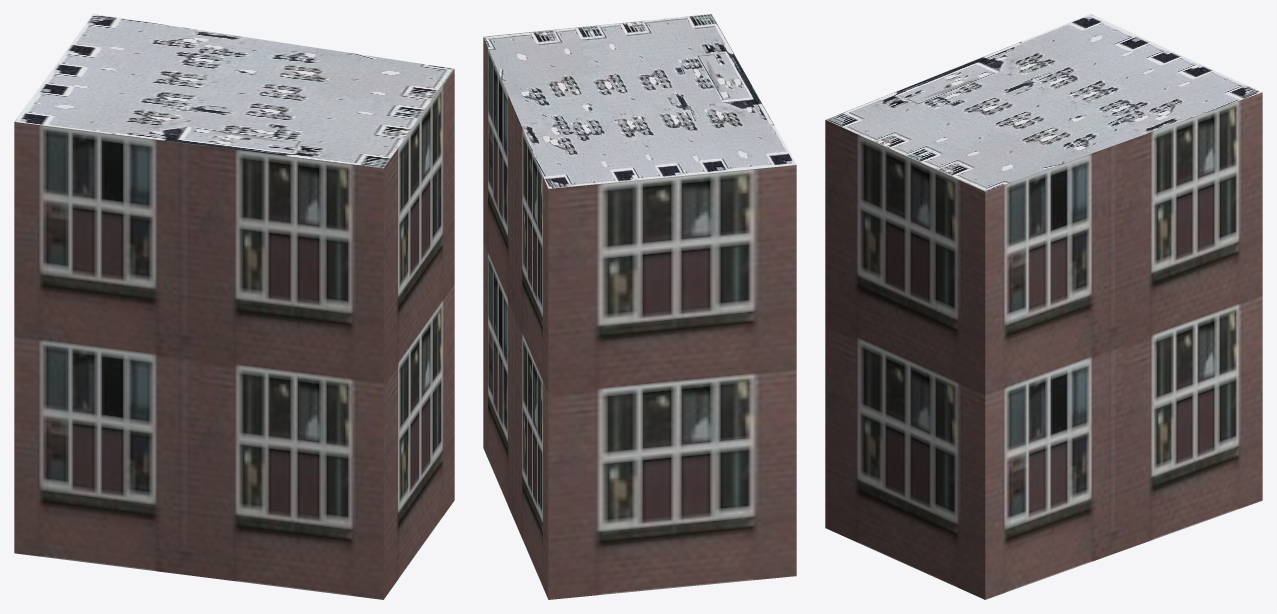
File: ResTex__3063.fbx
3 renders of one model, left to right at view 1: azimuth 30°, elevation 25°; view 2: azimuth 150°, elevation 25°; view 3: azimuth 270°, elevation 25°, orthographic. The views are drawn at different scales.
Visible parts, largest first — view 1: CityEngineMaterial_12_m, CityEngineMaterial_8_m; view 2: CityEngineMaterial_12_m, CityEngineMaterial_8_m; view 3: CityEngineMaterial_12_m, CityEngineMaterial_8_m.
Boxes of the visible parts, x1,y1,x2,y2 form: CityEngineMaterial_12_m: (14,69,454,599); CityEngineMaterial_8_m: (14,14,454,168); CityEngineMaterial_12_m: (483,37,796,599); CityEngineMaterial_8_m: (483,14,796,188); CityEngineMaterial_12_m: (825,92,1262,599); CityEngineMaterial_8_m: (826,14,1261,191).
Size of the model in its own units: 5.6 by 6 by 5.82.
Materials: 2 (2 with a texture image).
